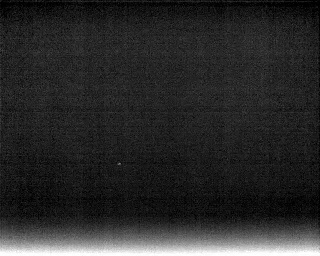AIRPLANE: (115, 159, 123, 170)
